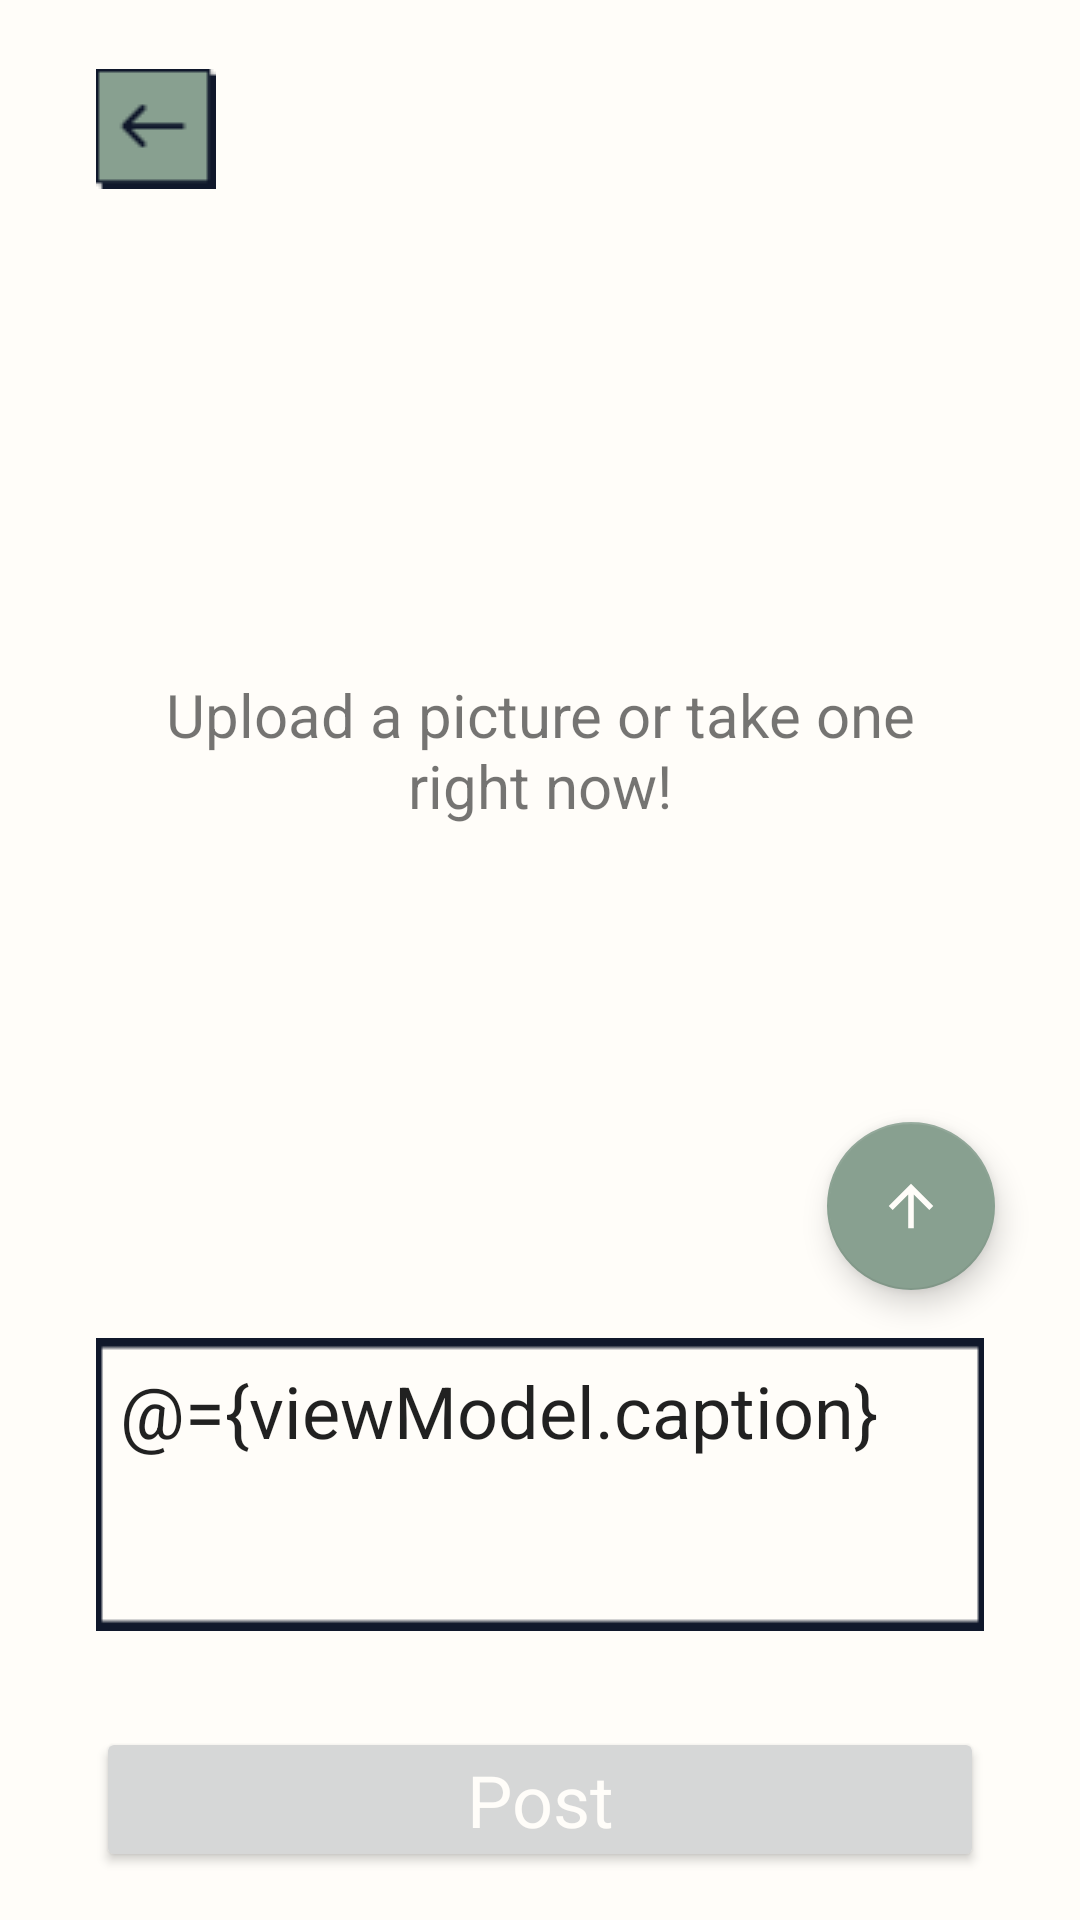

Icons on this 1080×1920 Android screen, each with the point to tap as (x=x, y=y):
back: (x=156, y=129)
